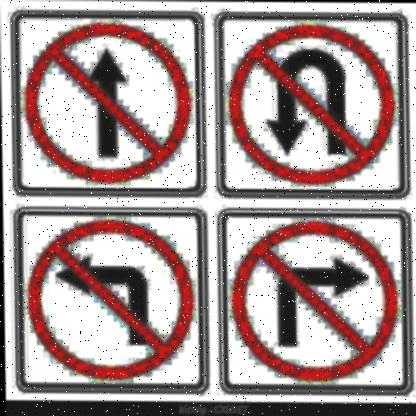No left turn: (23, 216, 192, 394)
No right turn: (227, 211, 409, 388)
